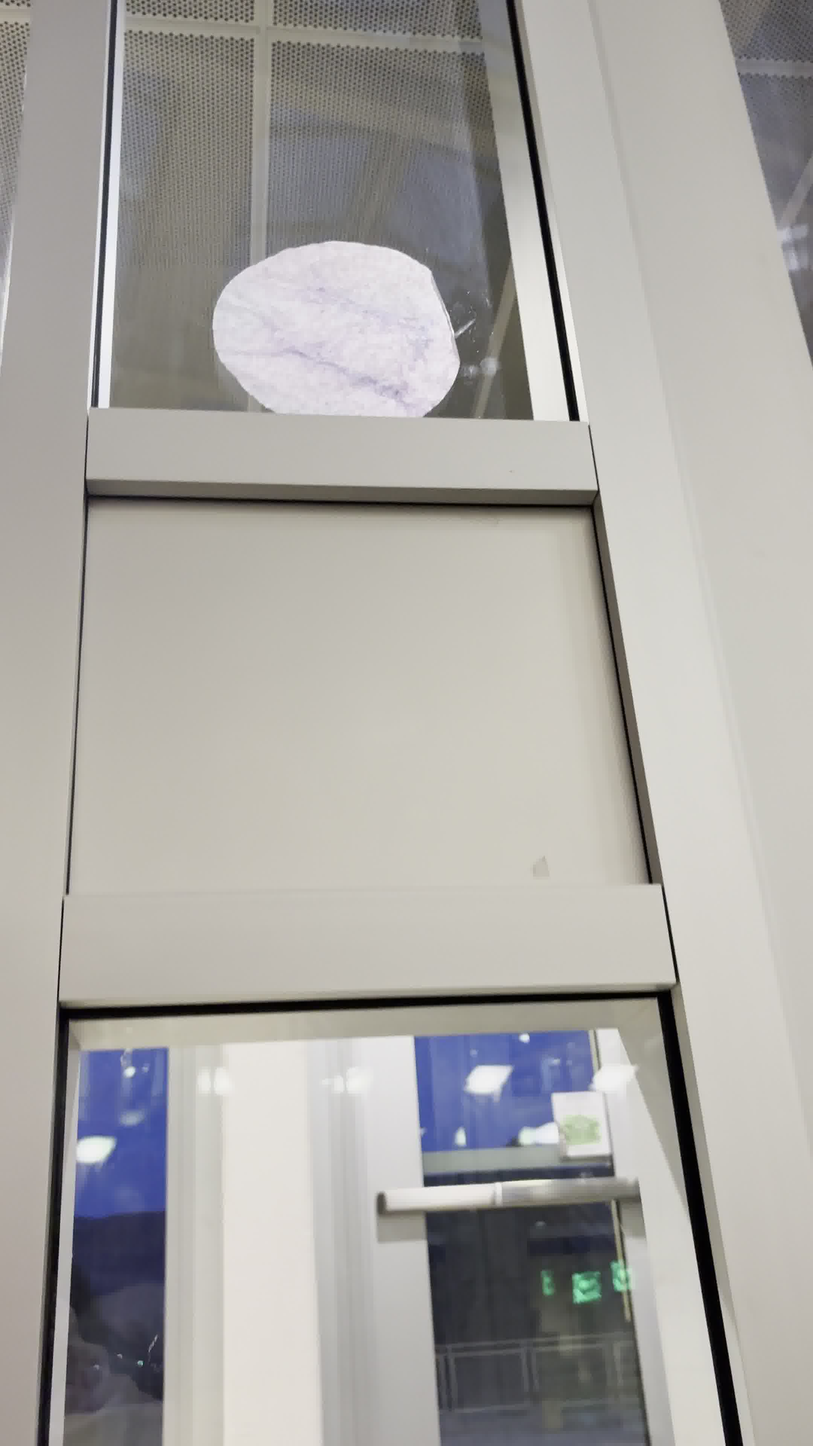Target: (209, 234, 466, 432)
